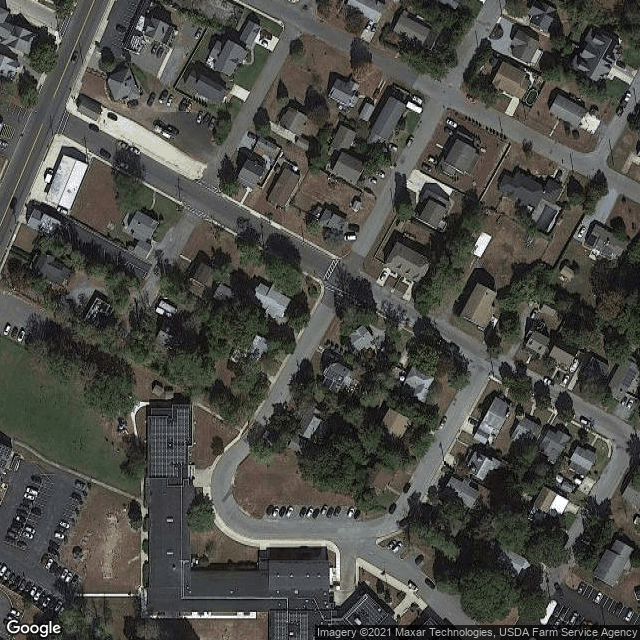rooftop-fixed: (148, 405, 192, 479), (270, 609, 315, 639), (351, 595, 392, 621)
